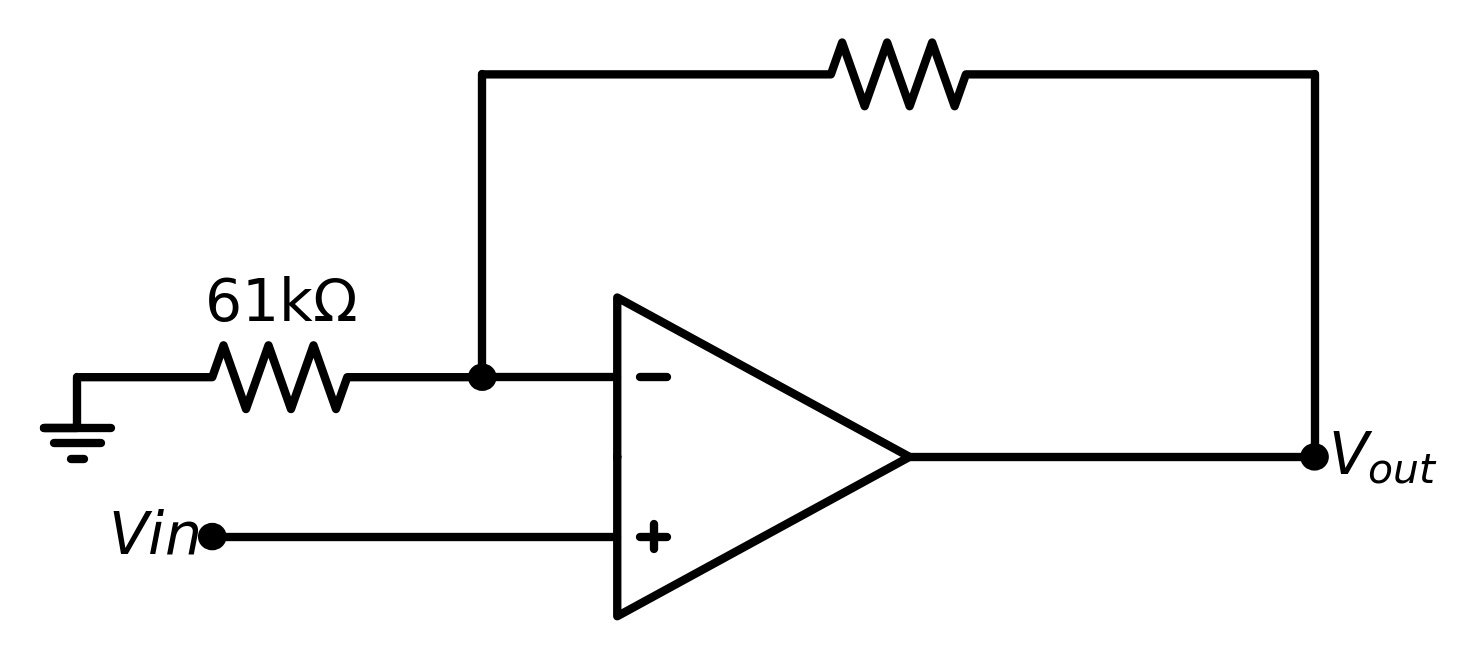ground: (31, 402, 123, 474)
opamp: (553, 285, 930, 619)
resistor: (820, 16, 982, 139), (194, 334, 370, 434)
